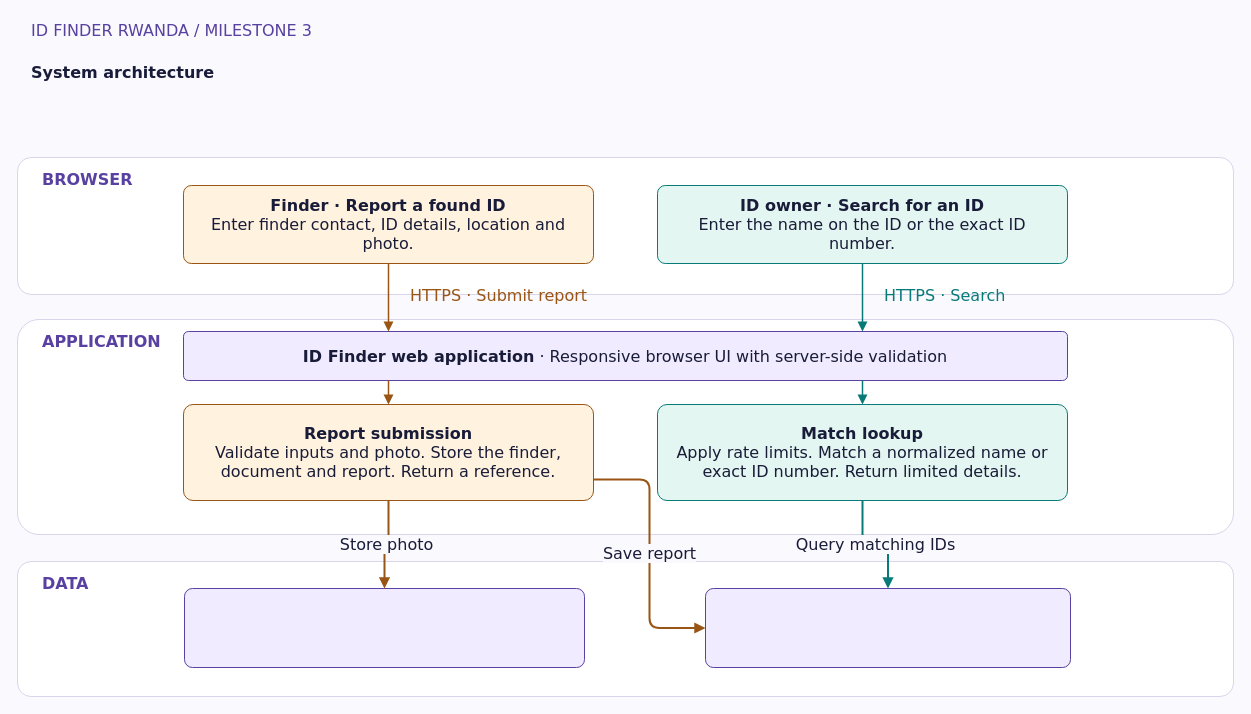
Some shapes in this 1251 by 714 pixel diagram are drawn without their labels. The shapes that lost their labels are listed below. From the top down, each one's centre as x and y in pixels, then its label:
[384,628]: Private photo storage Report references point to restricted files.
[887,628]: Relational database Finders, document types, IDs and reports
